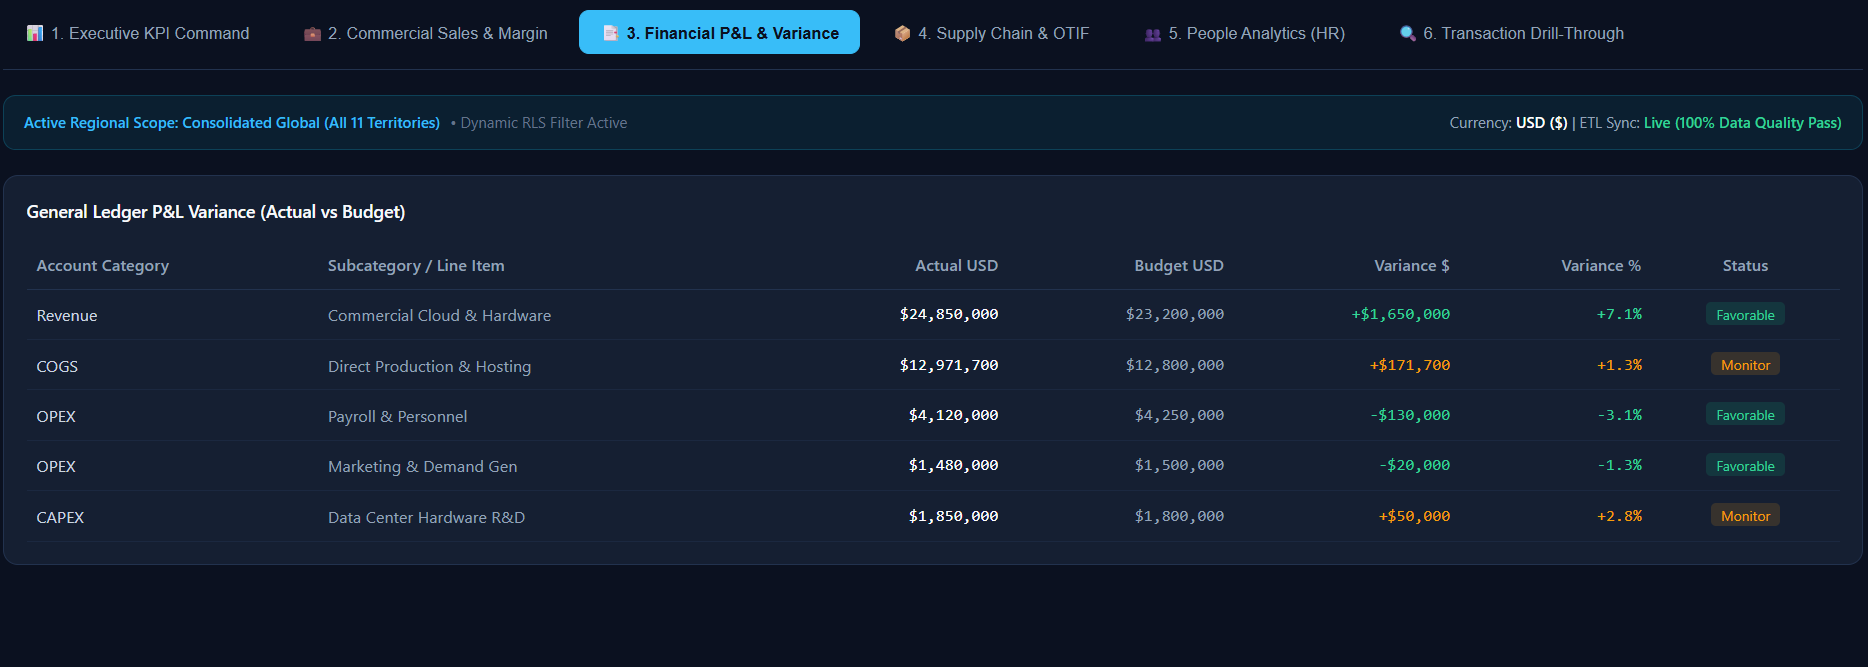

This screenshot's page, from the dashboard's own definition file:
{"tool":"powerbi","page":{"name":"Financial P&L & Variance","canvas":[1920,1080],"ordinal":2},"visuals":[{"type":"textbox","box":[10,0,626,80],"z":0},{"type":"pageNavigator","box":[10,104,1888,94],"z":1000},{"type":"cardVisual","fields":{"Data":["Fact_Sales.Active Scope"]},"box":[10,238,1888,160],"z":2000},{"type":"textbox","box":[896,302,1002,54],"z":3000},{"type":"tableEx","fields":{"Values":["vw_PowerBI_FinancialLedger.AccountCategory","vw_PowerBI_FinancialLedger.AccountSubCategory","Fact_Sales.Actual USD","Fact_Sales.Budget USD","Fact_Sales.Variance $","Fact_Sales.Variance %","Fact_Sales.Variance Status"]},"box":[10,442,1888,602],"z":4000}]}

Visuals, with their boxes on the page's 1920x1080 design canvas (x1, y1, x2, y2). These are canvas units, not pixel positions in the 1868x667 screenshot, which may show the page scaled, cropped or inside an application window:
textbox: [10, 0, 636, 80]
pageNavigator: [10, 104, 1898, 198]
cardVisual - Fact_Sales.Active Scope: [10, 238, 1898, 398]
textbox: [896, 302, 1898, 356]
tableEx - vw_PowerBI_FinancialLedger.AccountCategory x vw_PowerBI_FinancialLedger.AccountSubCategory: [10, 442, 1898, 1044]
